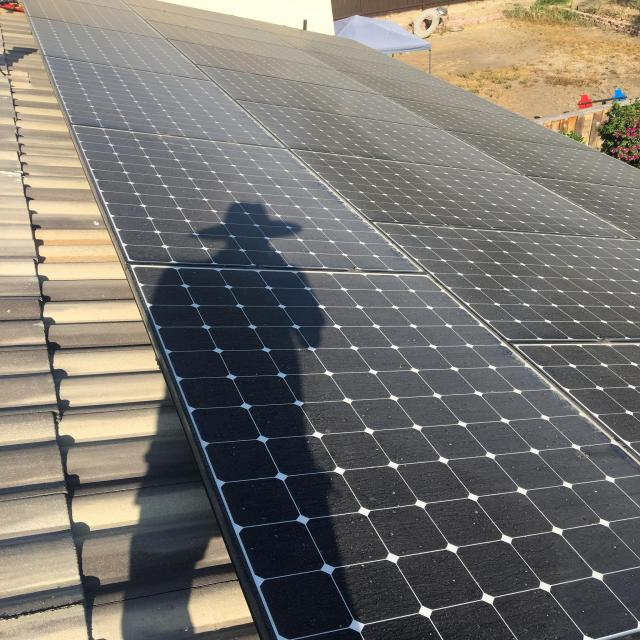dust-solar-panel: (17, 0, 640, 640)
